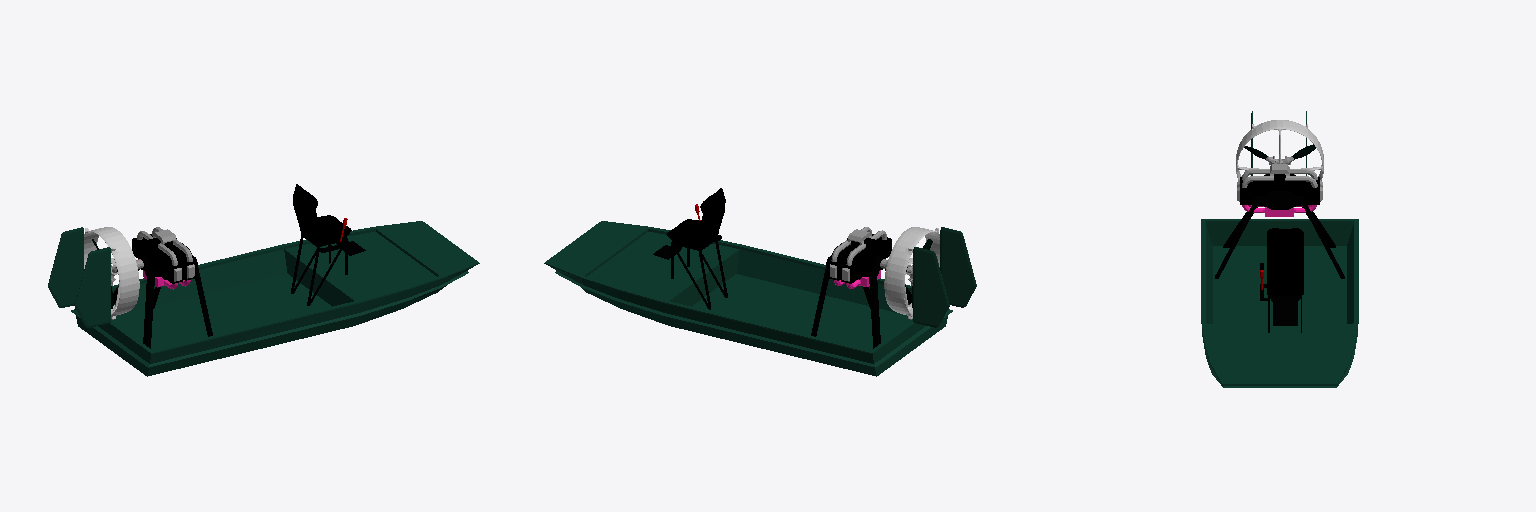
Rendered from airboat.obj.
3 views of the same model, side by side, from view 1: azimuth 30°, elevation 25°; view 2: azimuth 150°, elevation 25°; view 3: azimuth 270°, elevation 25° (orthographic).
Visible parts, largest first — view 1: boat, rudder, shroud, seat, emounts, stand, engine, intakes, cylinders; view 2: boat, rudder, shroud, seat, emounts, stand, engine, intakes, cylinders; view 3: boat, seat, emounts, shroud, stand, intakes, engine, cylinders.
Boxes of the visible parts, x1,y1,x2,y2 form: boat: [71, 221, 479, 376]; rudder: [48, 227, 110, 327]; shroud: [84, 227, 139, 319]; seat: [293, 184, 351, 245]; emounts: [113, 243, 212, 348]; stand: [291, 234, 365, 305]; engine: [139, 238, 185, 279]; intakes: [137, 227, 192, 265]; cylinders: [132, 234, 195, 283]; boat: [544, 221, 952, 376]; rudder: [913, 227, 976, 327]; shroud: [884, 227, 939, 319]; seat: [667, 188, 725, 249]; emounts: [811, 243, 911, 348]; stand: [653, 235, 727, 309]; engine: [838, 238, 884, 279]; intakes: [831, 227, 886, 265]; cylinders: [828, 234, 891, 283]; boat: [1201, 219, 1358, 387]; seat: [1267, 228, 1303, 296]; emounts: [1215, 191, 1344, 278]; shroud: [1236, 120, 1323, 180]; stand: [1260, 284, 1301, 332]; intakes: [1242, 164, 1317, 187]; engine: [1254, 174, 1305, 208]; cylinders: [1240, 177, 1319, 204].
Size of the model in its own units: 16.23 by 4.8 by 5.68.